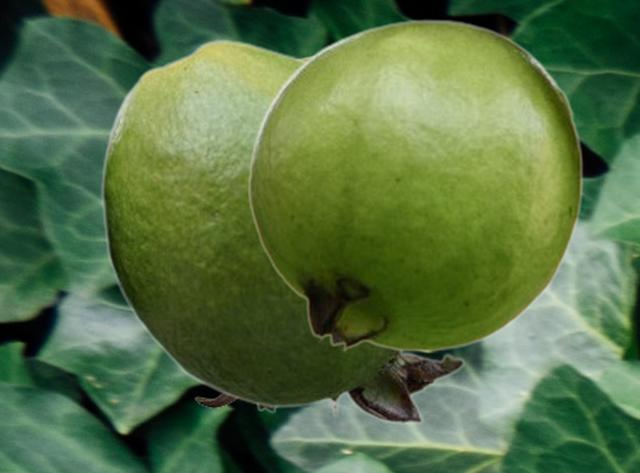guava: (100, 38, 465, 423), (247, 18, 583, 351)
